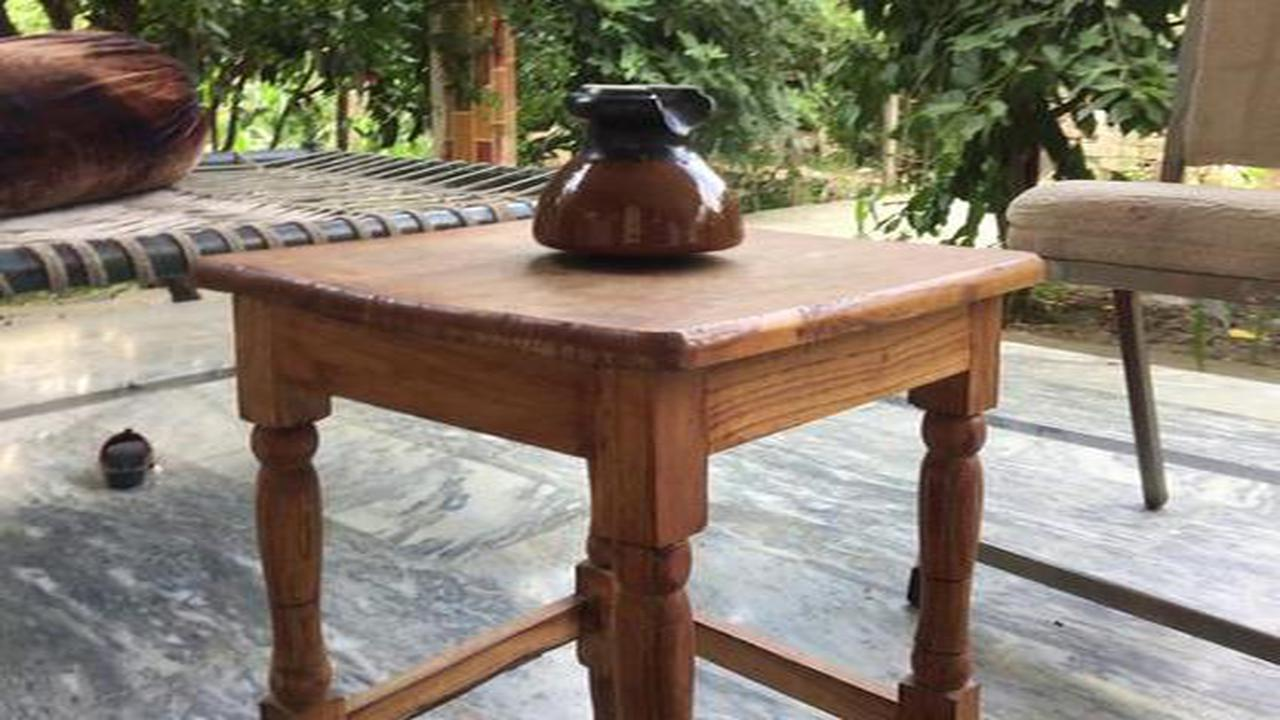insulator_pin: (511, 65, 773, 272)
